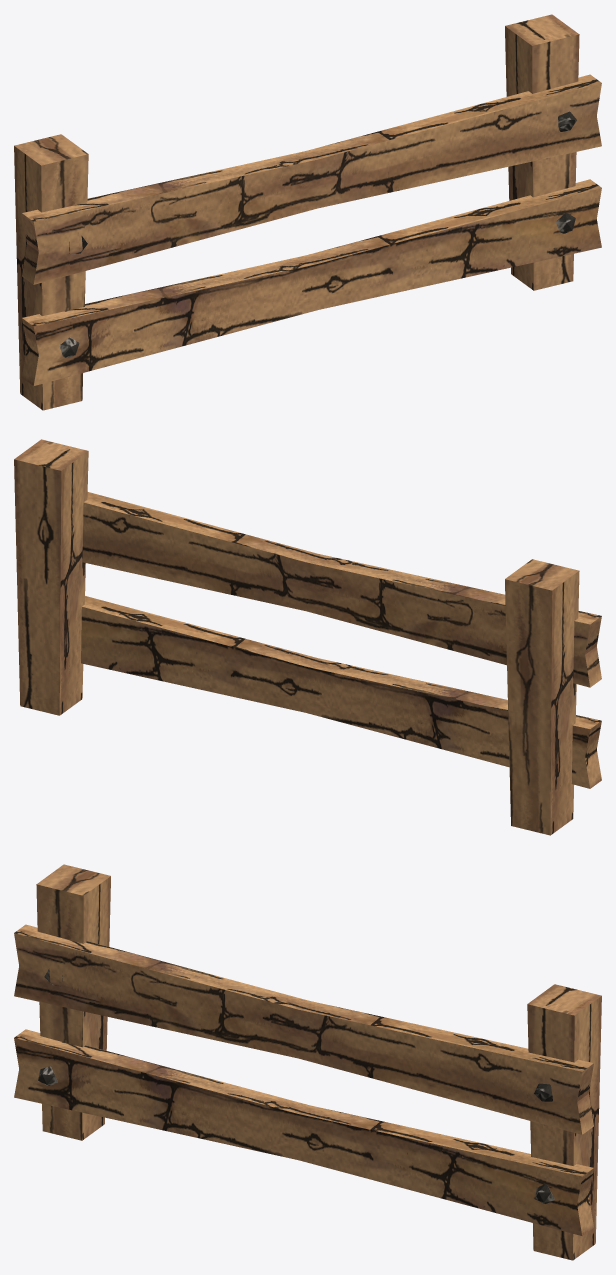
File: fence.glb
3 renders of one model, top to bottom at view 1: azimuth 30°, elevation 25°; view 2: azimuth 150°, elevation 25°; view 3: azimuth 330°, elevation 25°, orthographic.
Parts seen in each view (by area): view 1: Fence; view 2: Fence; view 3: Fence.
Part boxes in pixels (<box>): Fence: <box>14,14,601,410</box>; Fence: <box>14,439,601,835</box>; Fence: <box>14,864,601,1260</box>.
Size of the model in its own units: 1.08 by 0.4481 by 0.1286.
2 materials, 2 textured.
